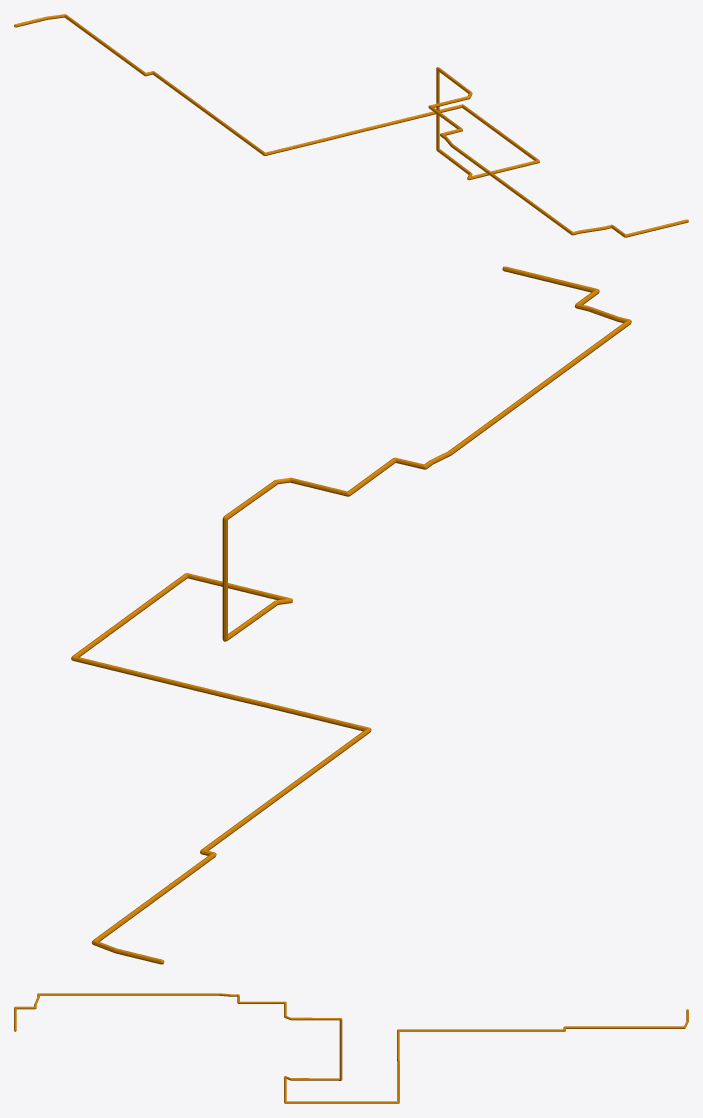
3 renders of one model, top to bottom at view 1: azimuth 30°, elevation 25°; view 2: azimuth 150°, elevation 25°; view 3: azimuth 270°, elevation 25°, orthographic. The views are drawn at different scales.
Bounding box in the file's own units: 1656 × 520 × 5068.
